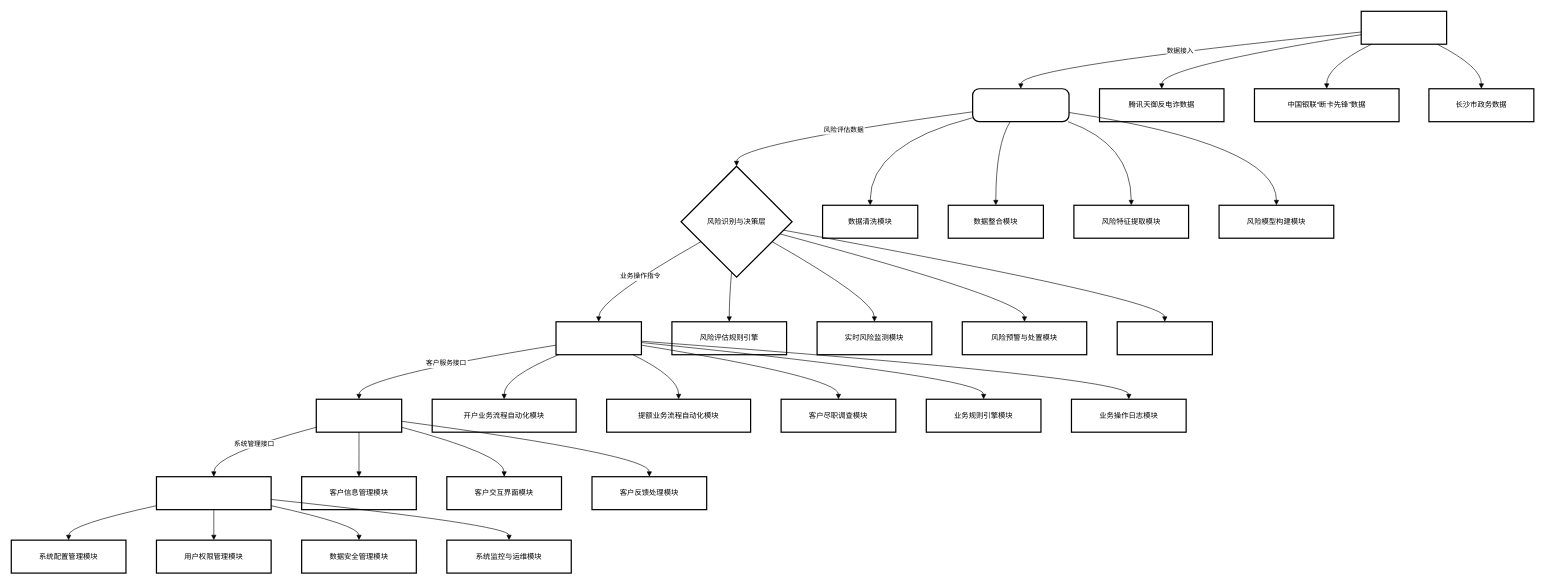
The diagram is 1545 pixels wide and 584 high, and some of its shapes have lost their labels. Here are the shapes that lost their labels. From the top down, the box of each, then its label:
(1360, 10, 1447, 45): 外部数据源
(972, 88, 1069, 122): 数据处理与分析层
(555, 321, 642, 355): 业务处理层
(1116, 321, 1213, 355): 决策支持模块
(315, 398, 402, 432): 客户服务层
(156, 476, 271, 510): 系统管理与支持层
